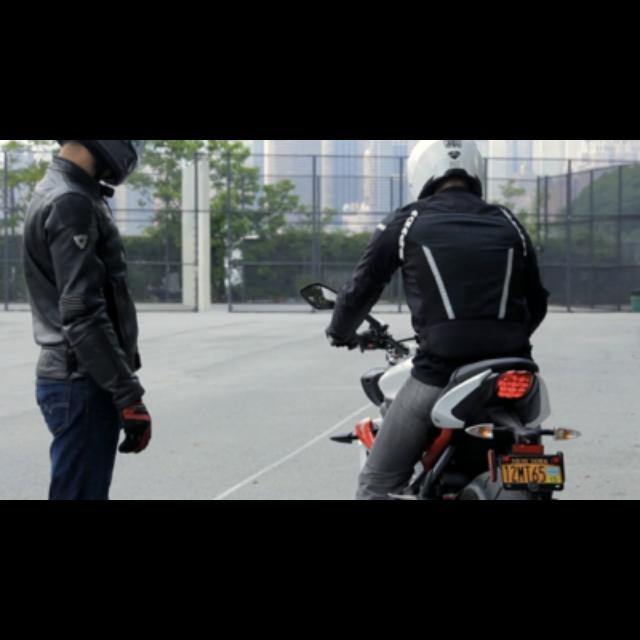With Helmet: (403, 140, 497, 214)
